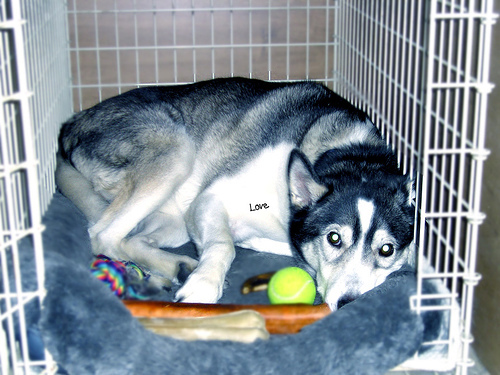dog: (54, 70, 418, 312)
